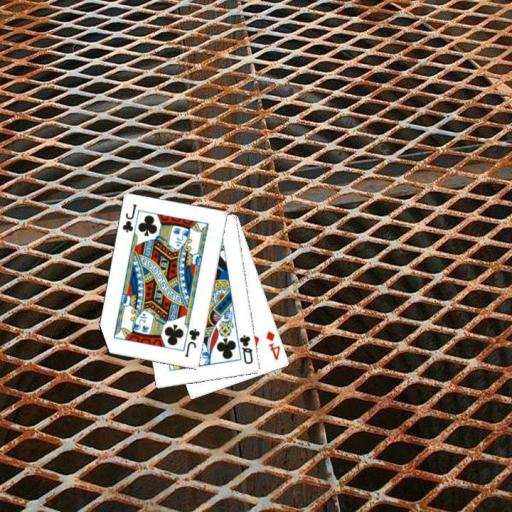4D: (263, 328, 282, 362)
JC: (182, 326, 201, 359), (120, 201, 139, 234)
QC: (237, 332, 255, 366)
